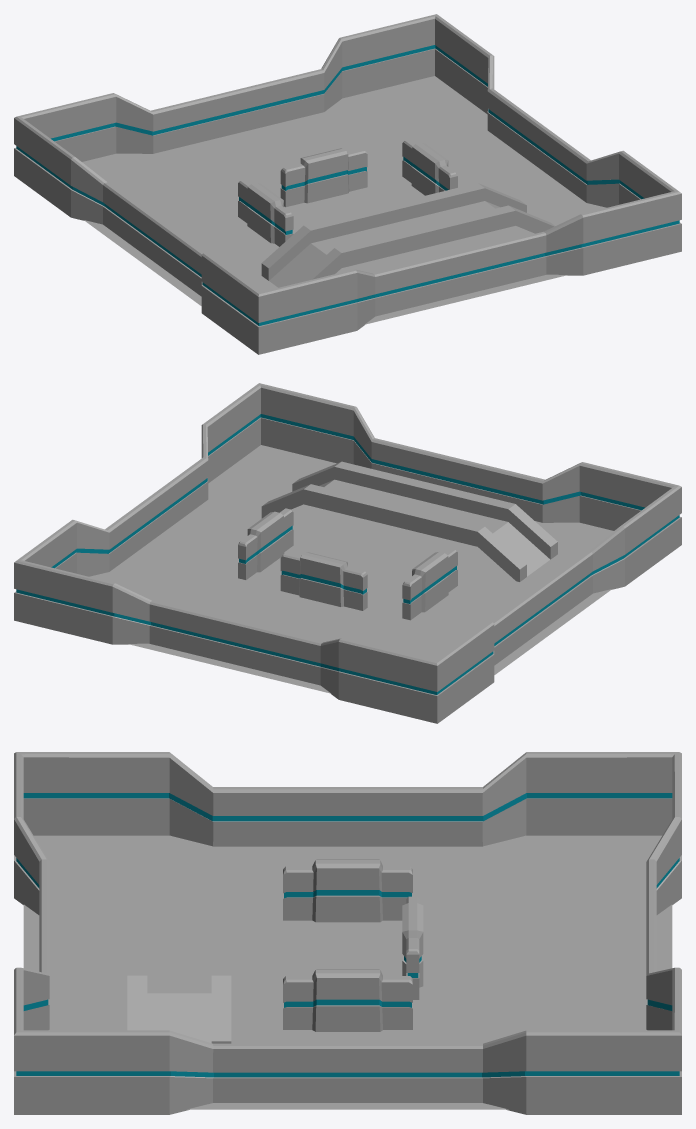
File: Arena.fbx
The picture shows the model from 3 angles, top to bottom: view 1: azimuth 30°, elevation 25°; view 2: azimuth 150°, elevation 25°; view 3: azimuth 270°, elevation 25°; orthographic projection. The views are drawn at different scales.
Visible parts, largest first — view 1: pCube1, Ground, pPlane1, Wall2, Wall1, Wall; view 2: pCube1, Ground, pPlane1, Wall2, Wall1, Wall; view 3: pCube1, Ground, pPlane1, Wall, Wall1, Wall2.
Part boxes in pixels (x1=…): pCube1: x1=14, y1=14, x2=681, y2=354; Ground: x1=82, y1=76, x2=606, y2=324; pPlane1: x1=261, y1=183, x2=554, y2=287; Wall2: x1=280, y1=148, x2=367, y2=207; Wall1: x1=238, y1=179, x2=293, y2=246; Wall: x1=402, y1=139, x2=457, y2=195; pCube1: x1=14, y1=383, x2=681, y2=723; Ground: x1=89, y1=445, x2=613, y2=693; pPlane1: x1=261, y1=461, x2=557, y2=581; Wall2: x1=280, y1=552, x2=367, y2=610; Wall1: x1=402, y1=548, x2=457, y2=620; Wall: x1=238, y1=508, x2=293, y2=579; pCube1: x1=14, y1=752, x2=681, y2=1114; Ground: x1=23, y1=835, x2=672, y2=1109; pPlane1: x1=127, y1=859, x2=231, y2=1043; Wall: x1=283, y1=969, x2=412, y2=1031; Wall1: x1=283, y1=859, x2=412, y2=922; Wall2: x1=402, y1=896, x2=423, y2=999.
Size of the model in its own units: 5150 by 711 by 5150.
